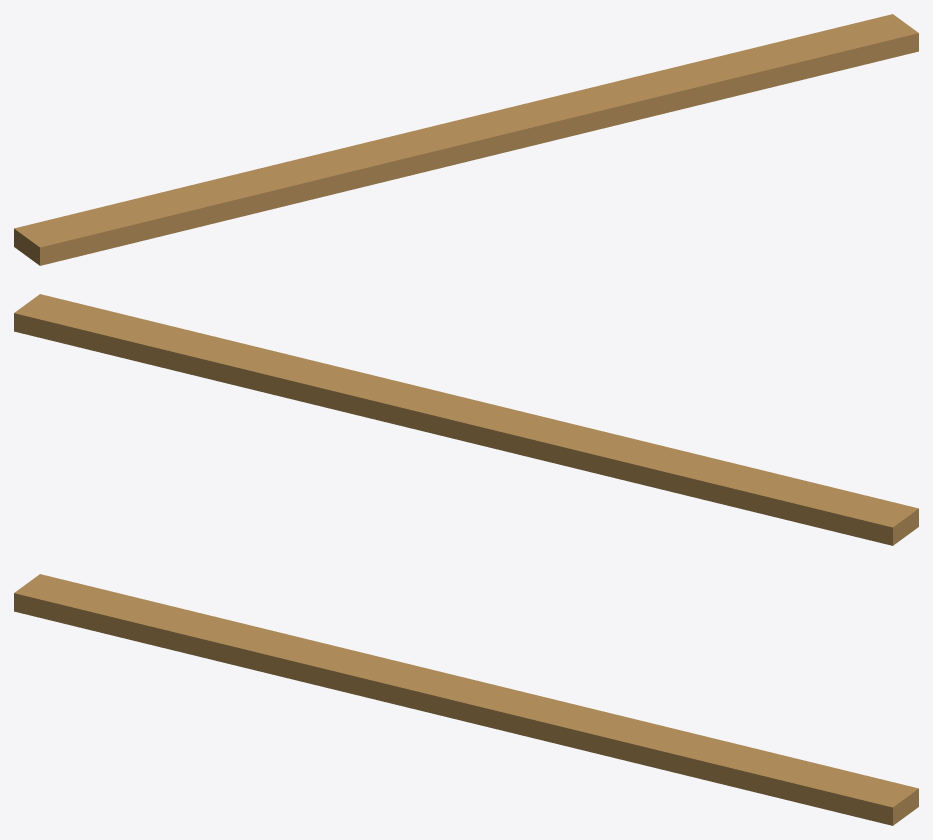
3 views of the same model, one above another, from view 1: azimuth 30°, elevation 25°; view 2: azimuth 150°, elevation 25°; view 3: azimuth 330°, elevation 25° (orthographic).
Visible parts, largest first — view 1: RUN-047-S01-ribbon; view 2: RUN-047-S01-ribbon; view 3: RUN-047-S01-ribbon.
Boxes of the visible parts, x1,y1,x2,y2 form: RUN-047-S01-ribbon: (14, 14, 918, 265); RUN-047-S01-ribbon: (14, 294, 918, 545); RUN-047-S01-ribbon: (14, 574, 918, 825).
Size of the model in its own units: 1.75 by 0.035 by 0.09.
